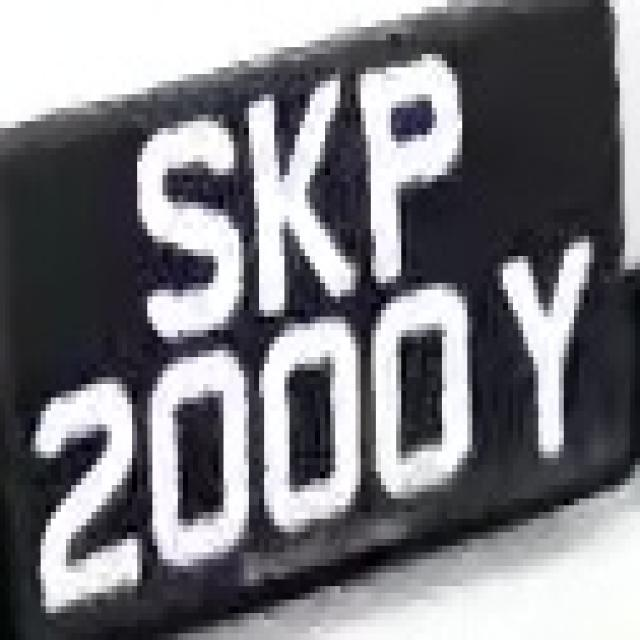0: (340, 276, 482, 512), (137, 330, 254, 593), (254, 303, 361, 532)
2: (15, 364, 142, 613)
K: (239, 54, 345, 317)
P: (335, 20, 462, 290)
S: (112, 94, 249, 317)
Y: (478, 222, 614, 478)
